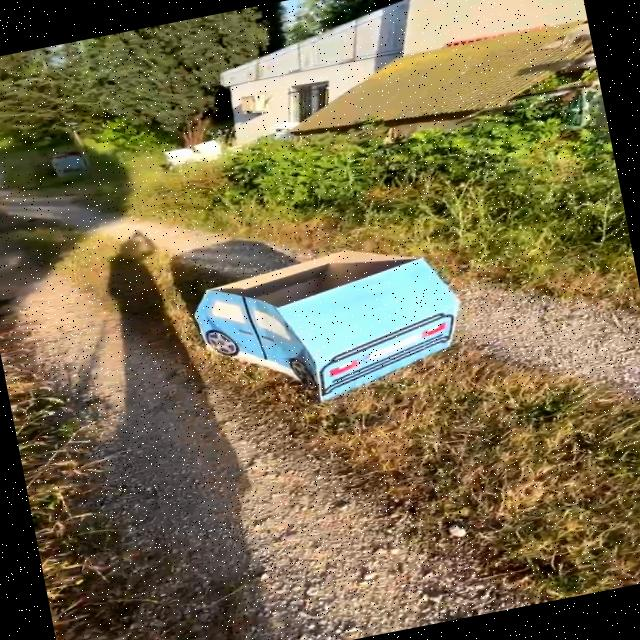blue_car: (128, 191, 515, 450)
